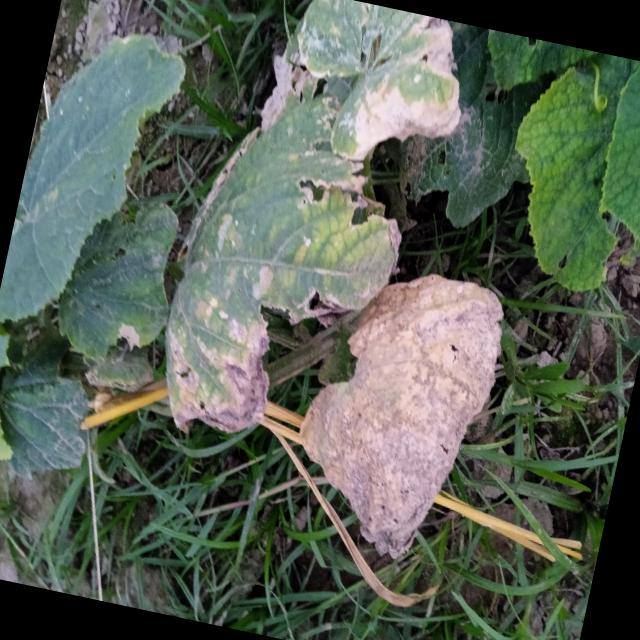cucumber_bacterial: (131, 144, 416, 469), (284, 263, 512, 594), (266, 0, 467, 178), (432, 29, 582, 265), (39, 184, 192, 393)
